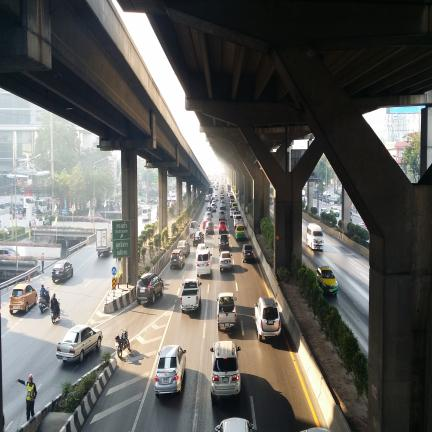car: (57, 325, 103, 362), (154, 345, 186, 397), (136, 273, 164, 305), (9, 283, 37, 314), (196, 249, 212, 278), (52, 260, 73, 282), (170, 249, 185, 269), (219, 252, 232, 271), (241, 244, 254, 263), (177, 241, 190, 256), (196, 243, 208, 258), (219, 234, 229, 251), (193, 231, 204, 246), (202, 216, 211, 229), (219, 220, 227, 233), (233, 210, 240, 220), (18, 254, 19, 256), (305, 431, 306, 432)
human: (16, 374, 36, 420), (51, 294, 59, 315), (41, 252, 44, 273)
motorbike: (115, 328, 130, 358), (39, 290, 50, 313), (51, 302, 60, 324)
pickup: (210, 341, 241, 403), (255, 297, 281, 341), (216, 292, 237, 330), (180, 279, 201, 313)
taxi: (316, 266, 338, 295), (235, 223, 246, 240), (202, 216, 211, 229), (330, 207, 340, 217)
truck: (96, 228, 112, 257)
van: (307, 223, 324, 250), (141, 206, 151, 221), (141, 207, 151, 221)
